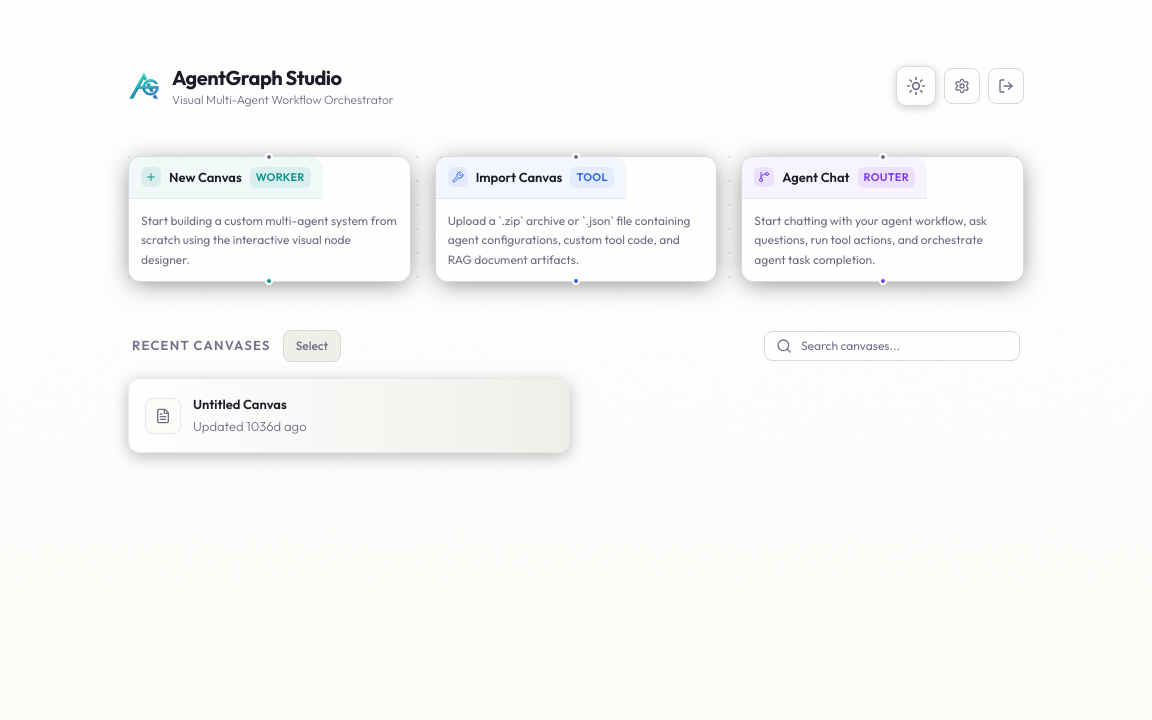
Scenario: App — unified settings dialog › opens the settings dialog from the landing header gear without navigating
Expected: the text "New Canvas" is shown, [169,168,242,187]
Click the button with test id "settings-button": coordinates (962, 86) [944,68,980,104]
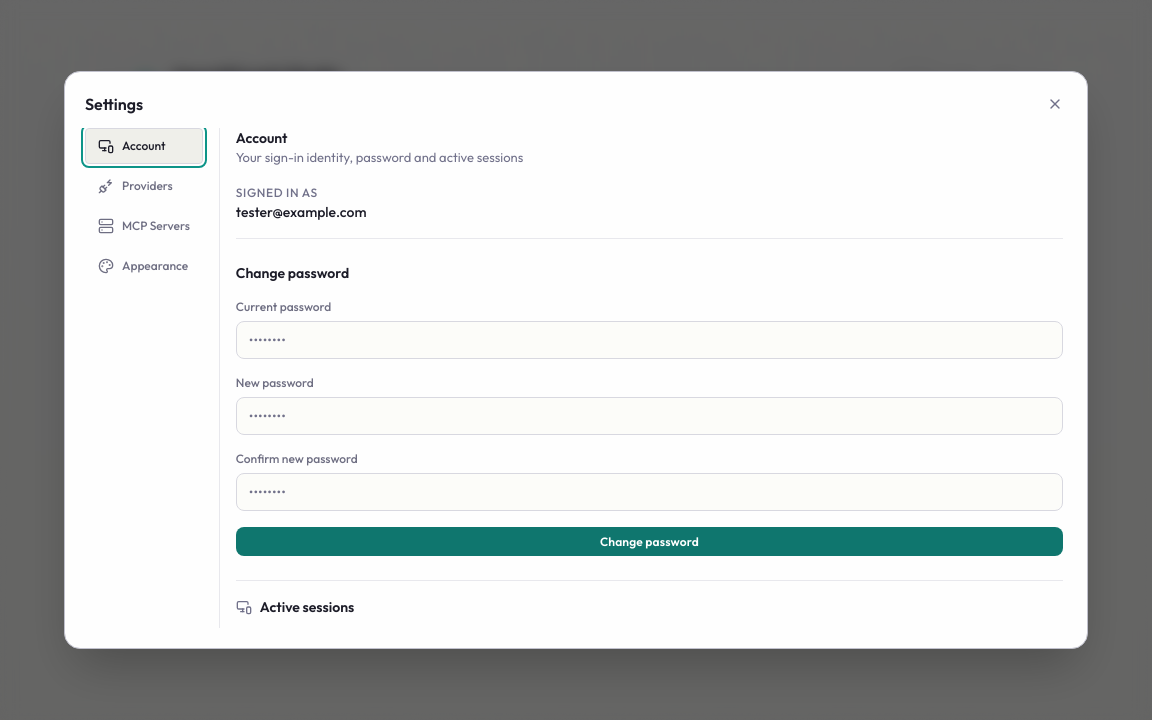
Expected: the text "New Canvas" is shown, [169,168,242,187]
Expected: the dialog "Settings" is shown
